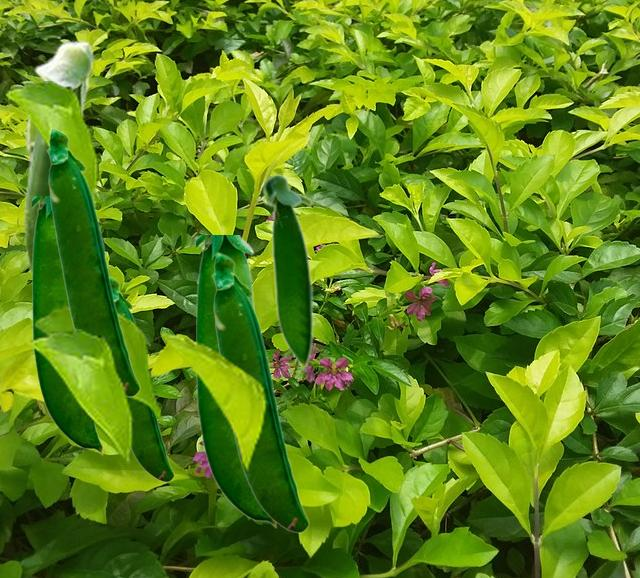pea: (211, 251, 308, 532), (46, 127, 139, 396), (196, 235, 276, 527), (32, 196, 102, 454), (23, 40, 94, 278), (111, 276, 173, 481), (261, 172, 313, 372)
